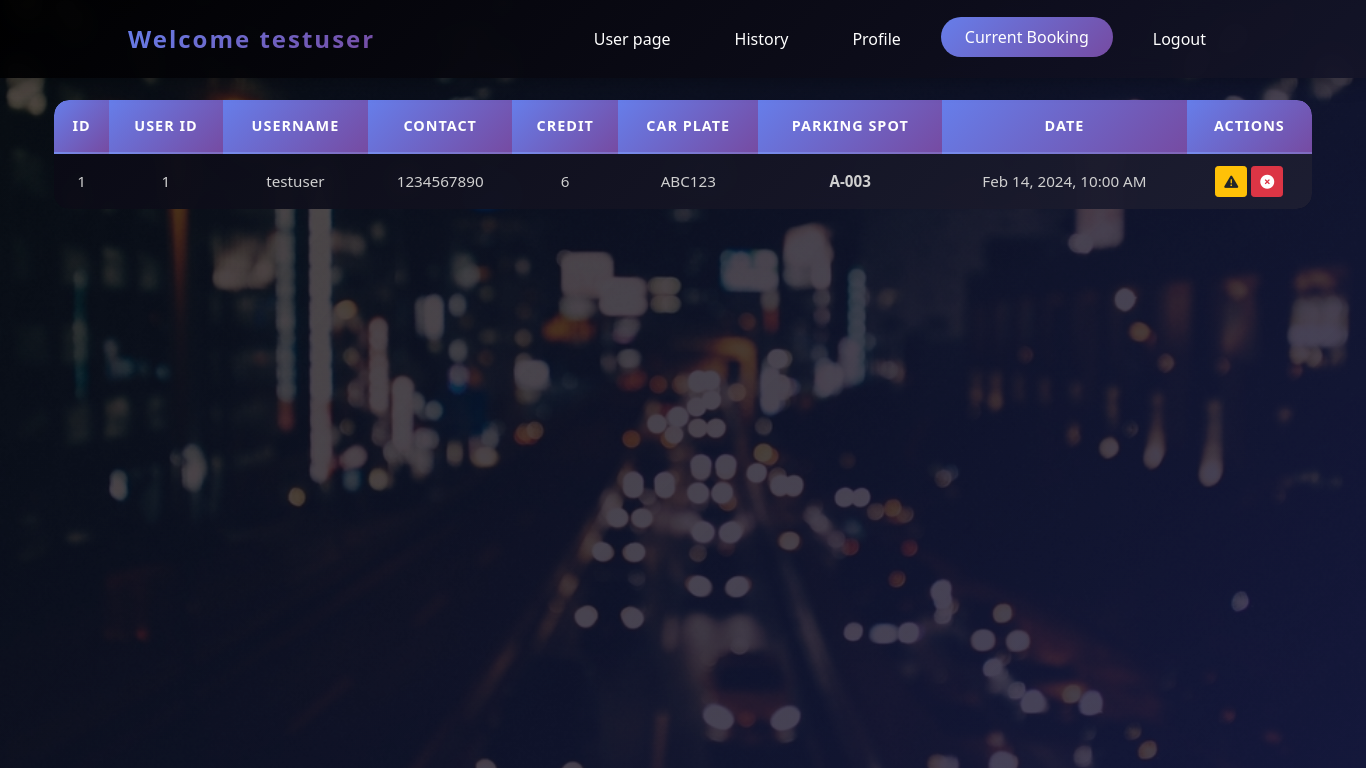
it: CurrentBooking › should cancel booking successfully
What coordinates should you click on to do the following:
click the button titled "Cancel Booking"
I would click on:
 (1267, 181)
Its box is left=1251, top=166, right=1283, bottom=197.
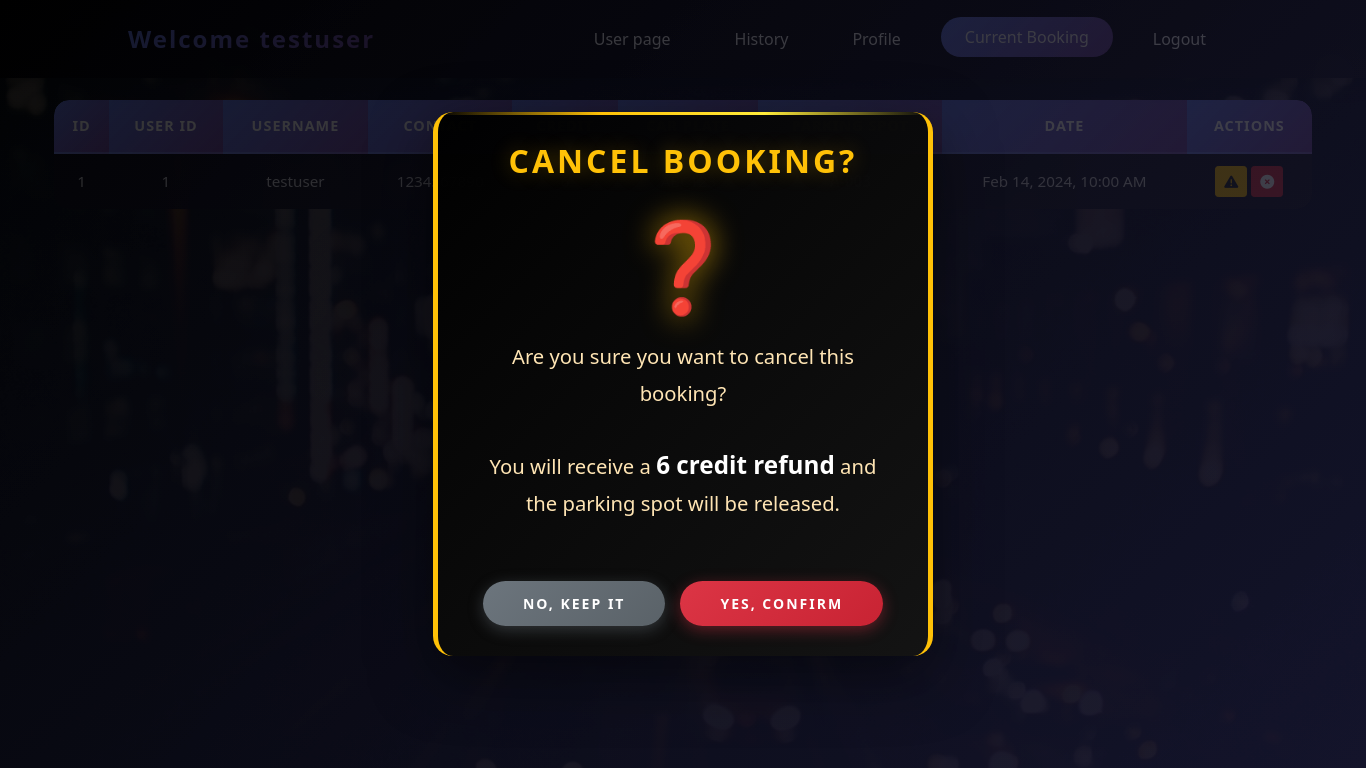
Now the heading "Cancel Booking?" is shown, box left=478, top=142, right=888, bottom=180
What coordinates should you click on to do the following:
click the button "Yes, Confirm"
I would click on:
 (782, 604)
Its box is left=680, top=581, right=883, bottom=626.
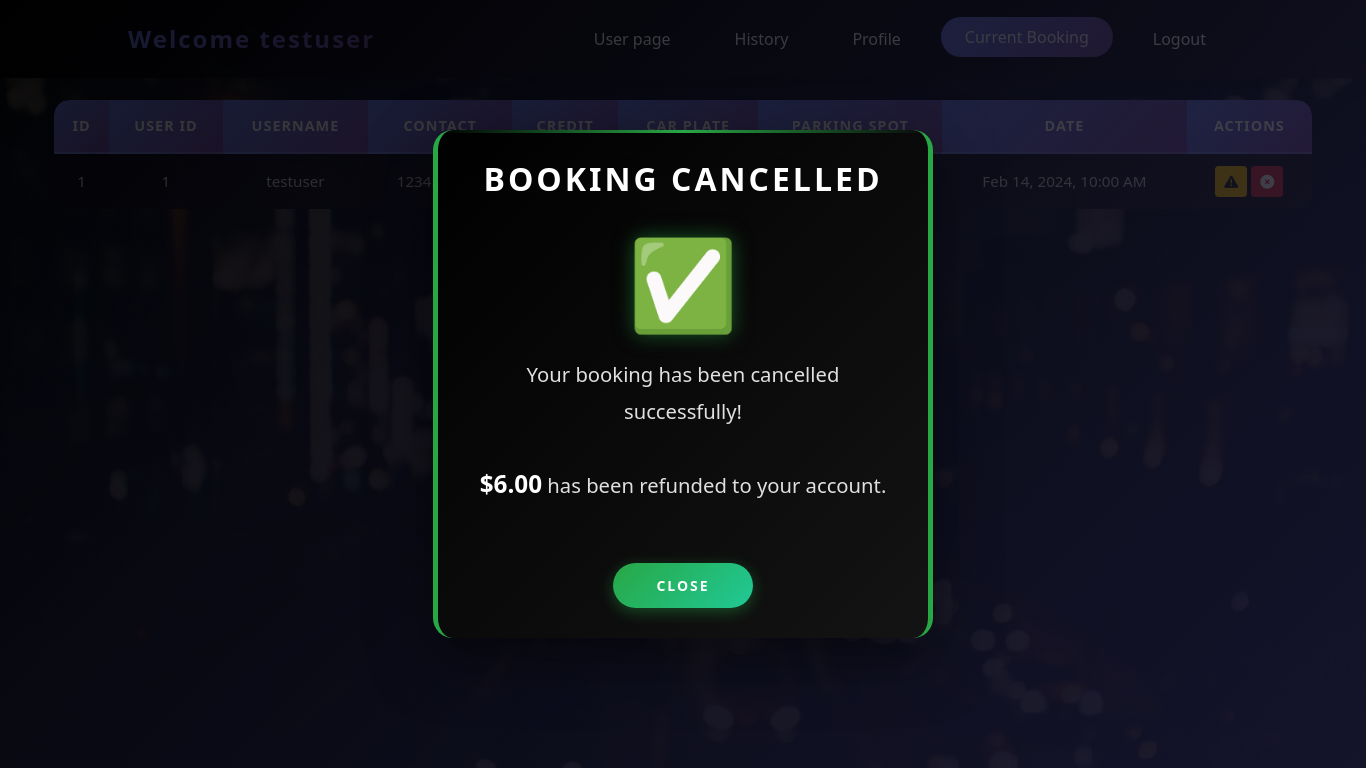
Now the heading "Booking Cancelled" is shown, box left=478, top=160, right=888, bottom=198
